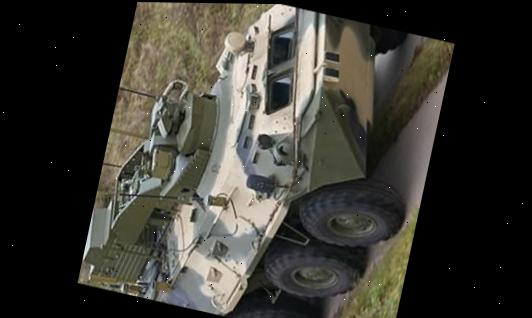tank: (80, 1, 431, 318)
